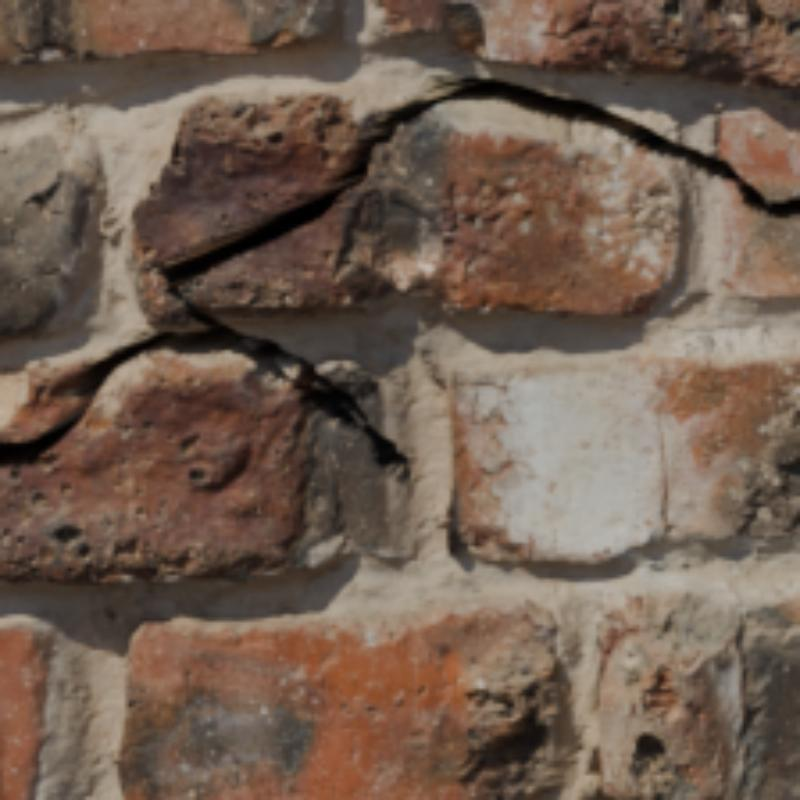crack: (4, 82, 800, 489)
